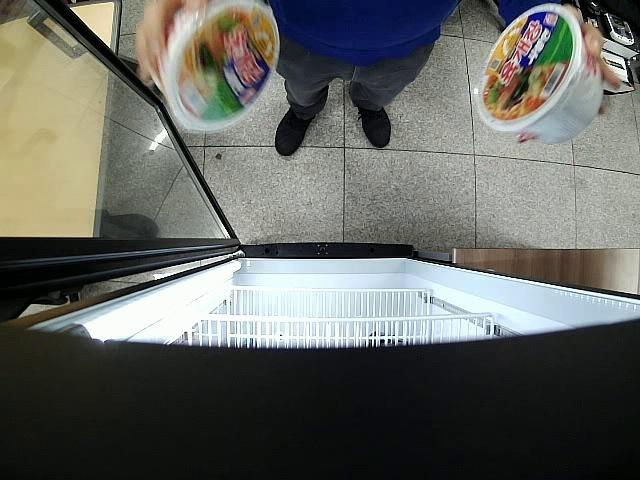09_yukGaeJang: (478, 4, 603, 144), (162, 0, 280, 133)
